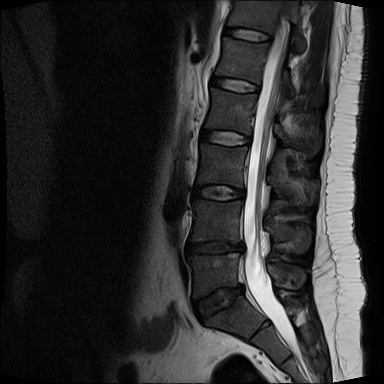Lumbar Disc Bulge (LDB): (185, 281, 251, 328), (182, 236, 255, 261)
Normal IVD: (192, 122, 256, 148), (205, 70, 264, 98), (191, 181, 247, 203), (220, 24, 275, 44)
Spinal Stenosis (SS): (230, 278, 250, 302), (234, 235, 250, 255)
